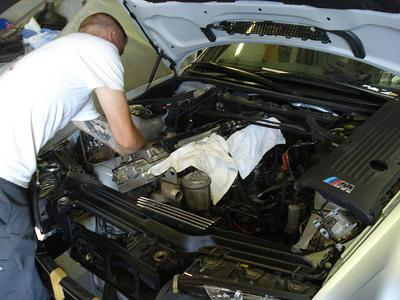person: (2, 11, 152, 300)
